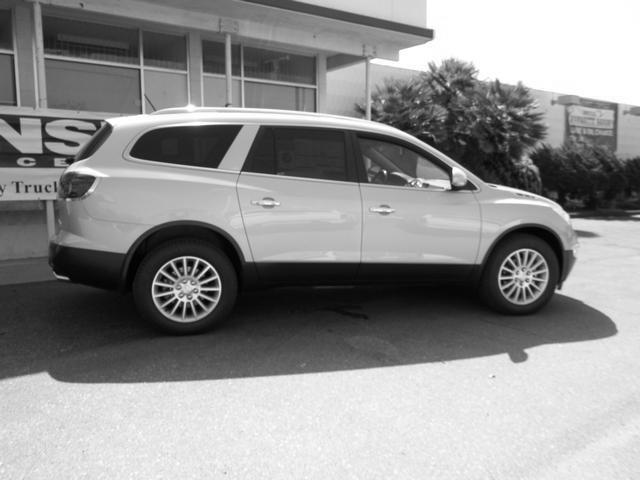car: (51, 105, 579, 335)
